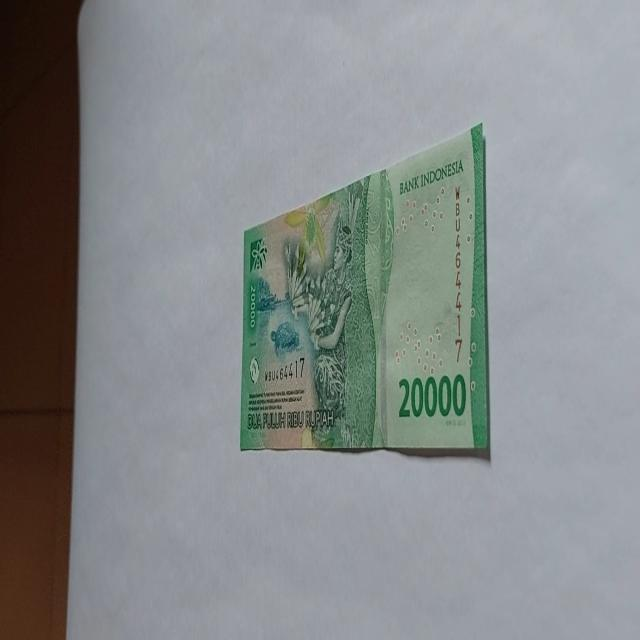dua puluh ribu rupiah: (239, 120, 490, 460), (282, 167, 394, 450)
